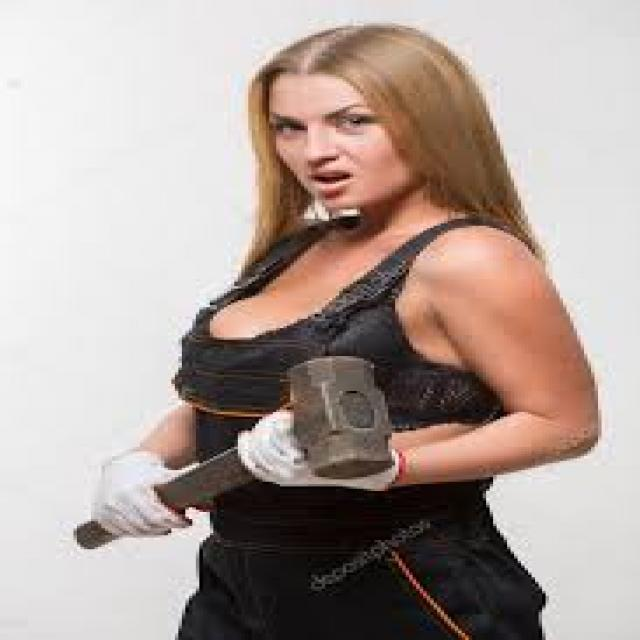hammer: (63, 340, 409, 561)
